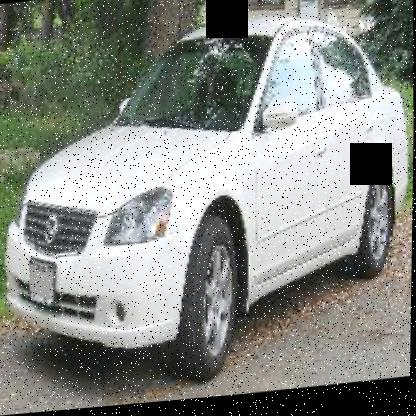not_emergency: (0, 4, 415, 396)
